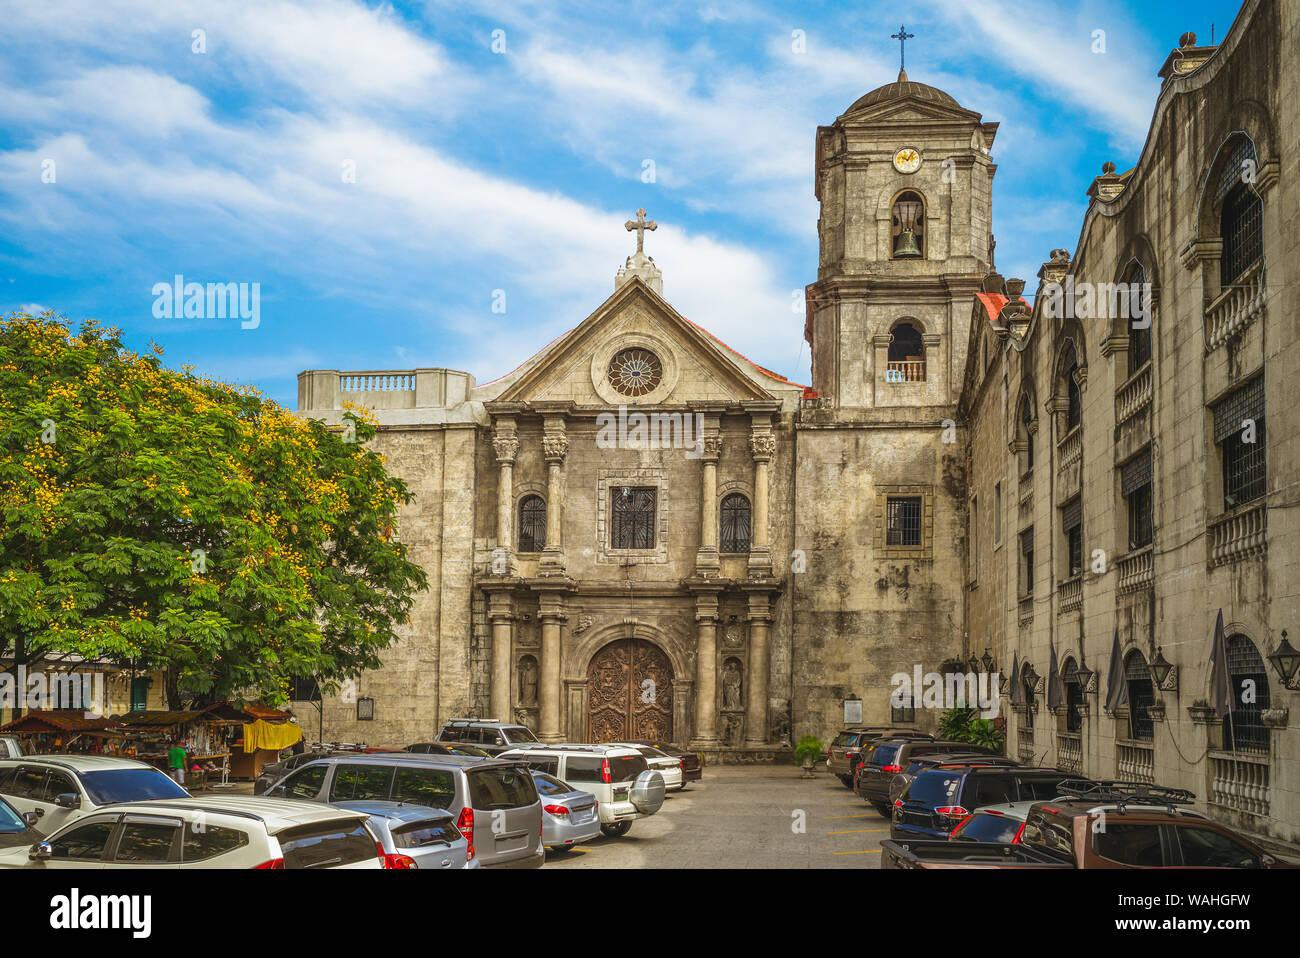san_agustin_church_intramuros_manila: (468, 19, 991, 772)
